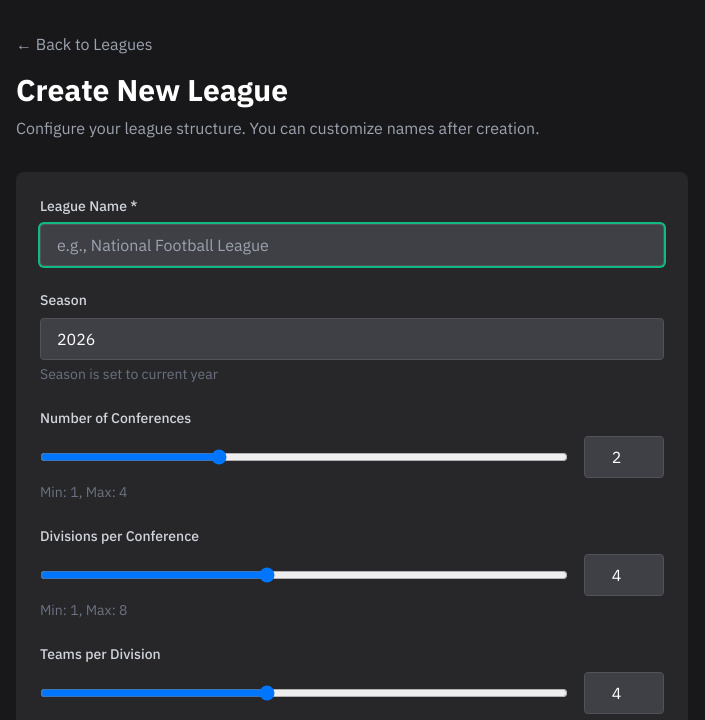
Test: CreateLeaguePage › should show loading state during submission
Type "Test" into the field labelled "League Name *" at [352, 245], box [40,224,664,266]
(page scrolled)
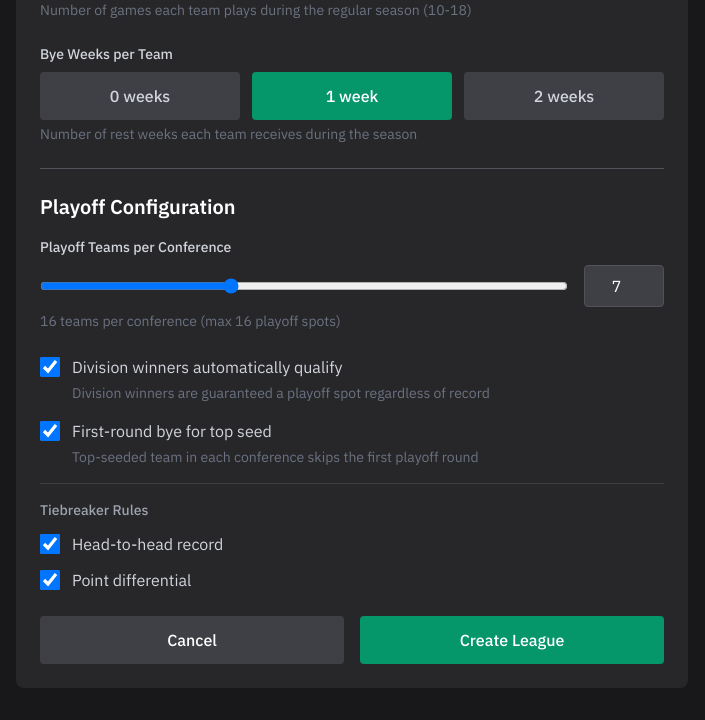
Click the button "Create League" at [512, 640], box [360,616,664,664]
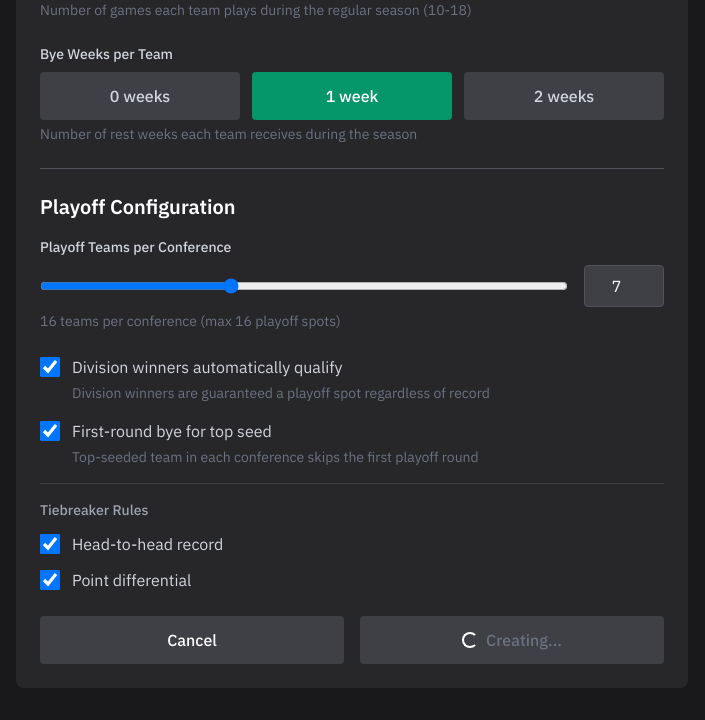
Result: the text "Creating..." is shown at [462,630,562,650]
Result: the button named "Create League" is disabled at [360,616,664,664]
